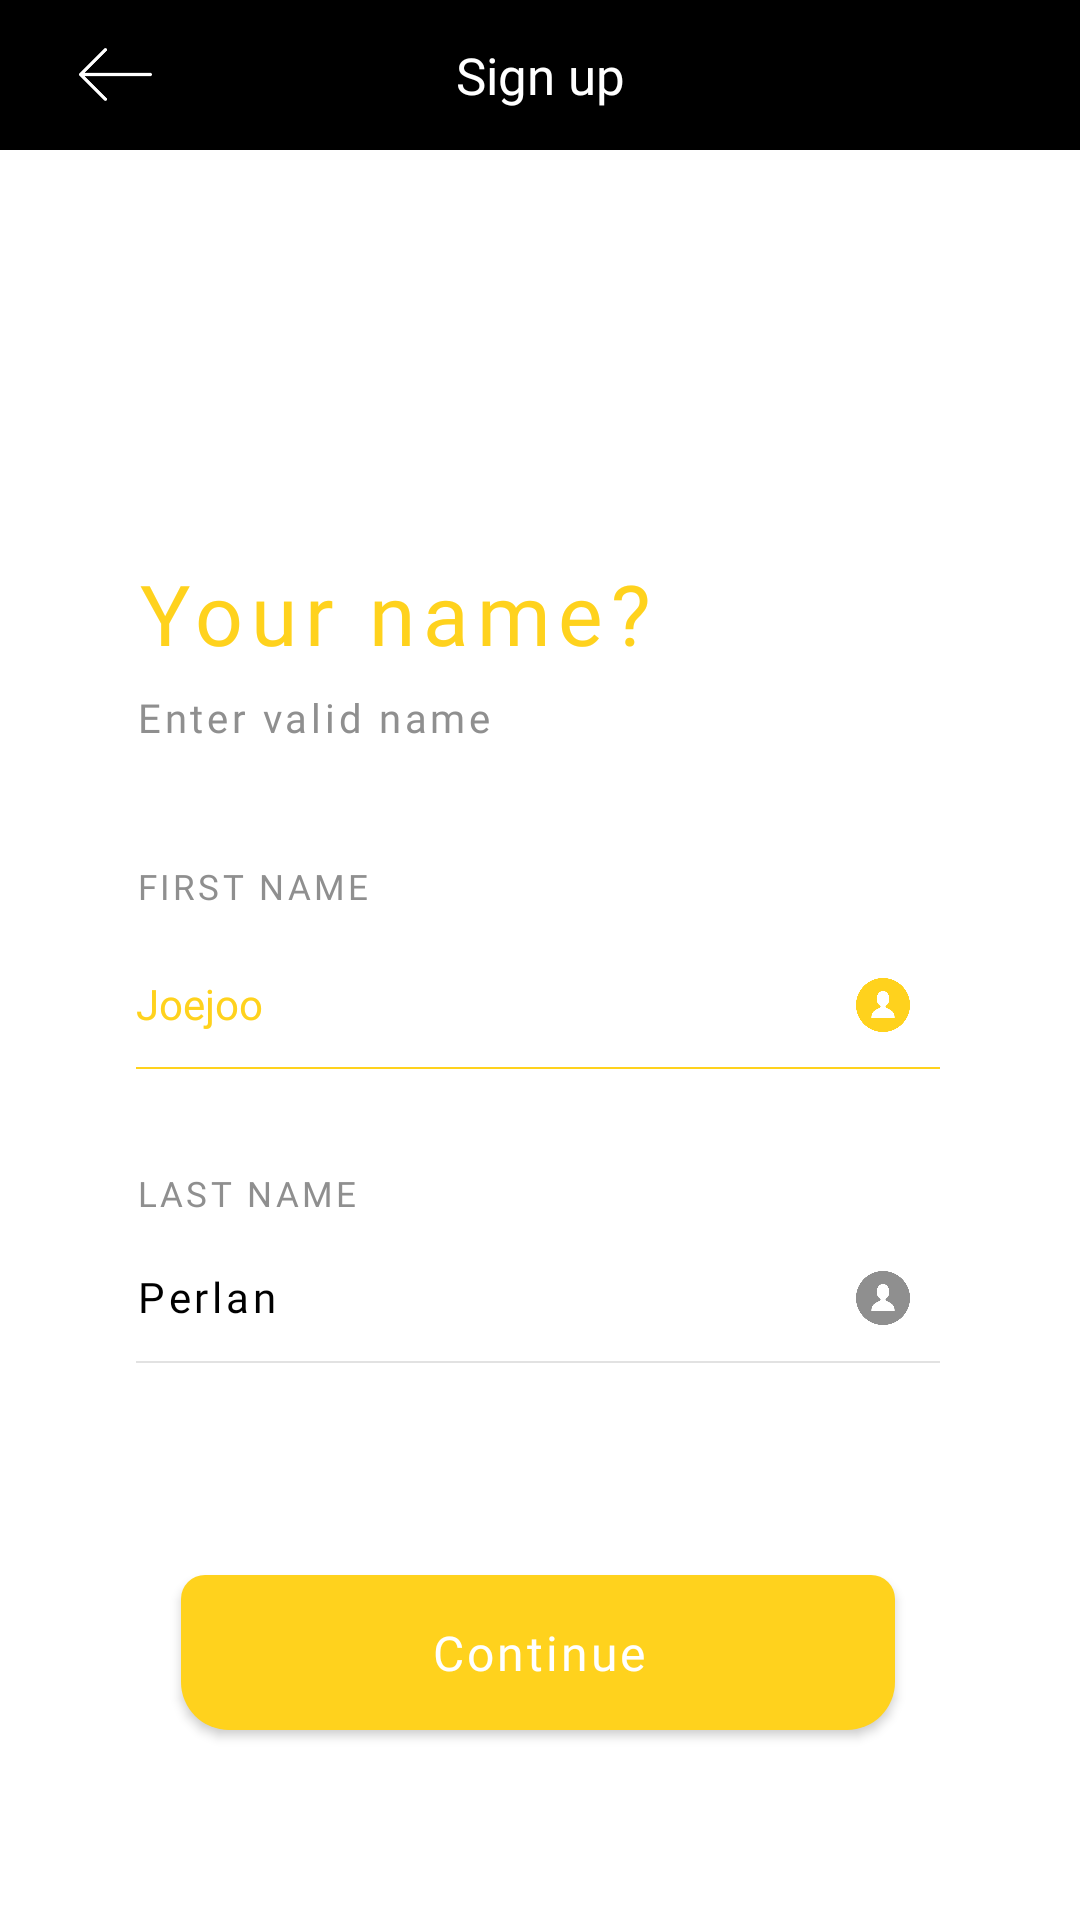

Point at icon controls on the screen. Image size 1080 x 1920, points as (x,y).
left arrow: (115,74)
user: (883,1005), (883,1298)
